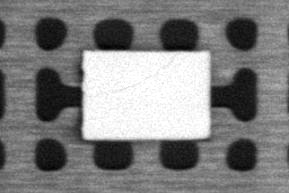DIE_CRACK: (108, 55, 175, 93)
